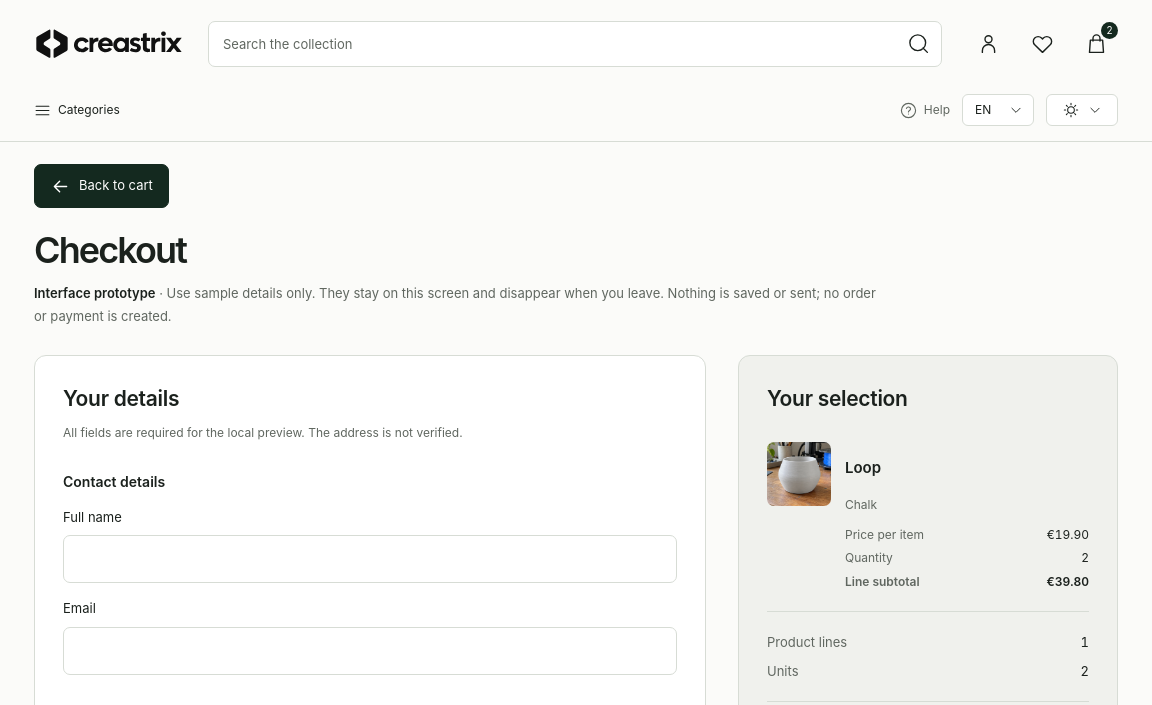
renders the checkout route in the existing storefront and returns to its cart without mutation
The width and height of the screenshot is (1152, 705).
Expected: the heading "Checkout" is shown, x1=34 y1=228 x2=186 y2=272
Click the link "Back to cart". click: {"x": 101, "y": 186}
box: x1=34 y1=164 x2=169 y2=208
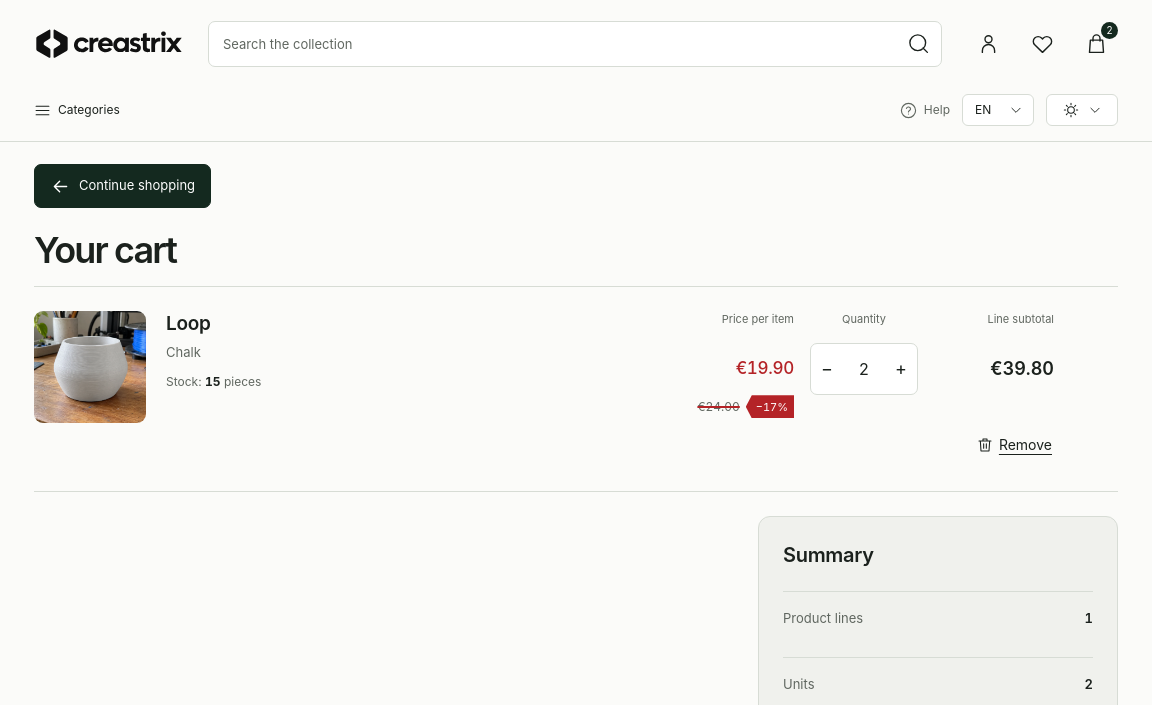
Result: the heading "Your cart" is shown at x1=34 y1=228 x2=176 y2=272
